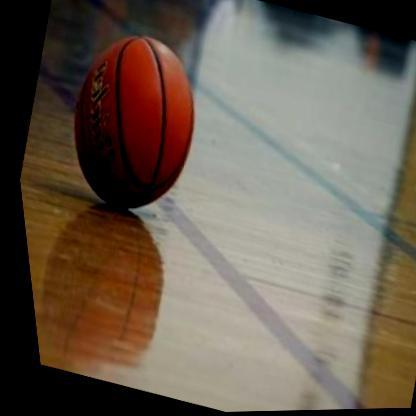basketball: (32, 11, 226, 230)
